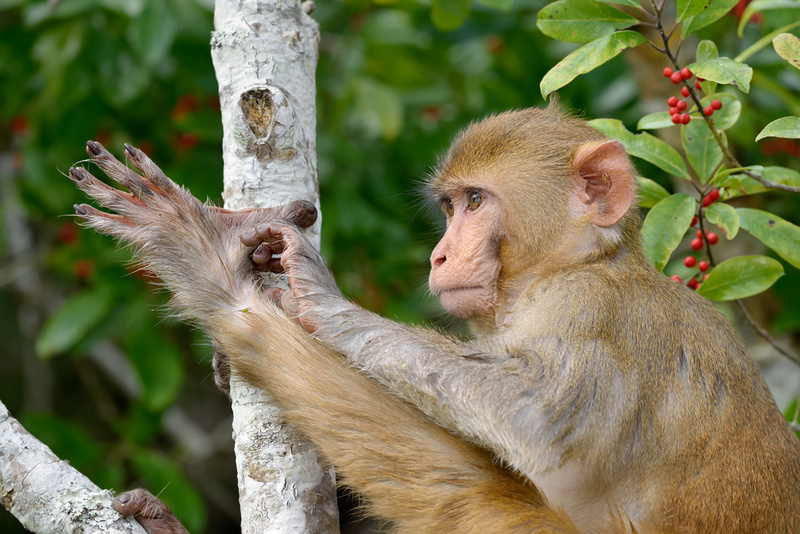monkey: (52, 97, 800, 534)
